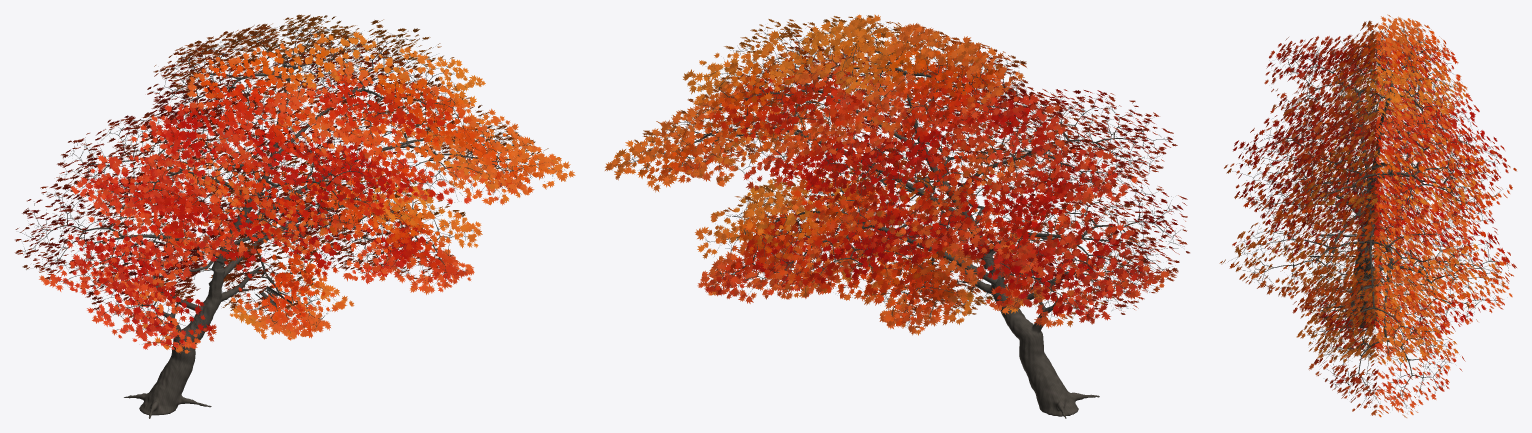
File: wish-tree-natural-r03-web.glb
The picture shows the model from 3 angles, left to right: view 1: azimuth 30°, elevation 25°; view 2: azimuth 150°, elevation 25°; view 3: azimuth 270°, elevation 25°; orthographic projection. The views are drawn at different scales.
Parts seen in each view (by area): view 1: CANOPY_heart, CANOPY_crown, CANOPY_upper-left, CANOPY_right-upper, CANOPY_left-shelf, CANOPY_right-middle, CANOPY_lower-heart, CANOPY_left-lower, WOOD_natural_trunk, CANOPY_lower-fall, CANOPY_right-fall, TWIGS_heart (+10 smaller); view 2: CANOPY_heart, CANOPY_crown, CANOPY_lower-heart, CANOPY_upper-left, CANOPY_left-shelf, CANOPY_right-upper, CANOPY_right-middle, CANOPY_left-lower, WOOD_natural_trunk, CANOPY_right-fall, CANOPY_lower-fall, TWIGS_heart (+10 smaller); view 3: CANOPY_heart, CANOPY_crown, CANOPY_right-upper, CANOPY_lower-heart, CANOPY_right-middle, CANOPY_right-fall, CANOPY_upper-left, CANOPY_right-reach, TWIGS_heart, CANOPY_left-shelf, TWIGS_right-middle, TWIGS_crown (+11 smaller).
Part boxes in pixels (x1,y1,x2,y2): CANOPY_heart: (149, 78, 397, 267); CANOPY_crown: (142, 14, 391, 141); CANOPY_upper-left: (56, 102, 270, 217); CANOPY_right-upper: (278, 19, 485, 164); CANOPY_left-shelf: (15, 178, 220, 295); CANOPY_right-middle: (317, 65, 556, 205); CANOPY_lower-heart: (210, 149, 427, 285); CANOPY_left-lower: (80, 232, 252, 353); WOOD_natural_trunk: (93, 43, 484, 418); CANOPY_lower-fall: (210, 245, 354, 340); CANOPY_right-fall: (346, 179, 482, 294); TWIGS_heart: (162, 94, 387, 255); CANOPY_heart: (793, 77, 1068, 265); CANOPY_crown: (777, 14, 1060, 131); CANOPY_lower-heart: (744, 145, 973, 299); CANOPY_upper-left: (941, 87, 1177, 204); CANOPY_left-shelf: (980, 168, 1189, 299); CANOPY_right-upper: (683, 19, 907, 157); CANOPY_right-middle: (652, 46, 891, 195); CANOPY_left-lower: (946, 219, 1169, 328); WOOD_natural_trunk: (689, 43, 1121, 418); CANOPY_right-fall: (695, 178, 831, 303); CANOPY_lower-fall: (844, 249, 1005, 335); TWIGS_heart: (809, 88, 1056, 256); CANOPY_heart: (1224, 96, 1516, 241); CANOPY_crown: (1313, 14, 1467, 139); CANOPY_right-upper: (1274, 134, 1492, 233); CANOPY_lower-heart: (1274, 223, 1516, 349); CANOPY_right-middle: (1219, 201, 1479, 300); CANOPY_right-fall: (1308, 296, 1465, 417); CANOPY_upper-left: (1264, 33, 1447, 121); CANOPY_right-reach: (1293, 295, 1447, 363); TWIGS_heart: (1231, 107, 1507, 230); CANOPY_left-shelf: (1279, 89, 1479, 180); TWIGS_right-middle: (1228, 208, 1472, 295); TWIGS_crown: (1324, 23, 1460, 136).
Bounding box in the file's own units: 11.31 × 7.19 × 5.74.
3 materials, 3 textured.
